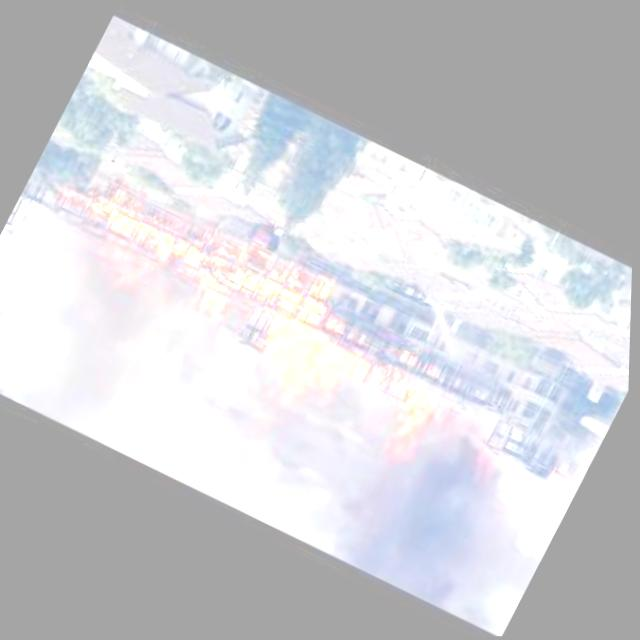Fire: (19, 165, 488, 481)
